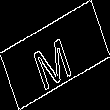M_NW: (31, 23, 79, 87)
